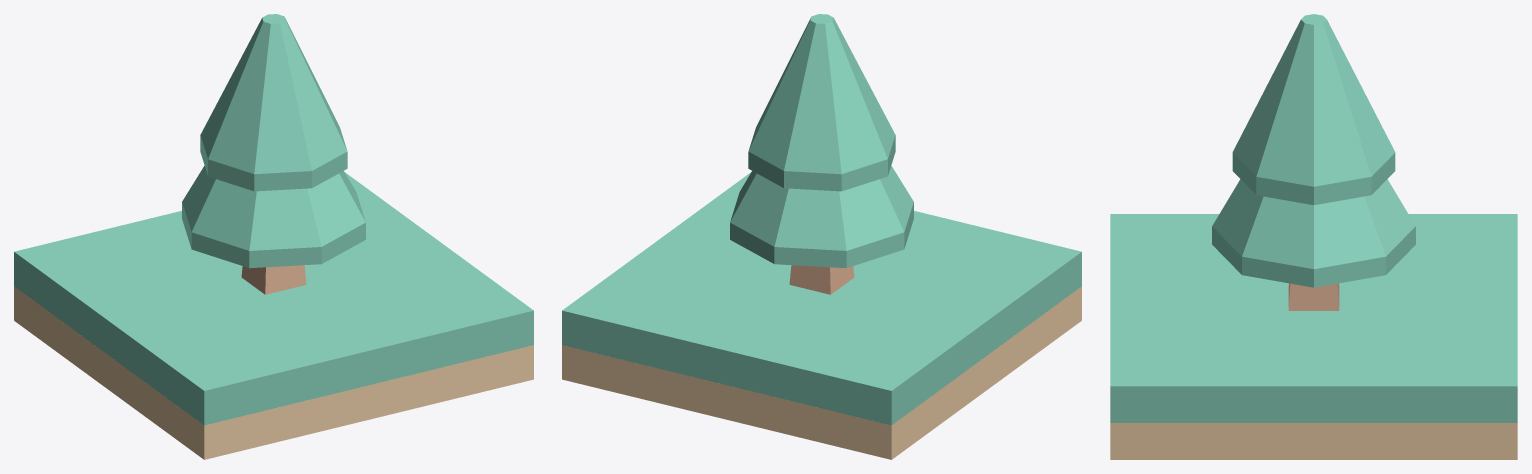
File: tile_tree.glb
3 views of the same model, side by side, from view 1: azimuth 30°, elevation 25°; view 2: azimuth 150°, elevation 25°; view 3: azimuth 270°, elevation 25° (orthographic). The views are drawn at different scales.
Parts seen in each view (by area): view 1: tile_tree, tree; view 2: tile_tree, tree; view 3: tile_tree, tree.
Part boxes in pixels (x1,y1,x2,y2): tile_tree: (14, 172, 533, 459); tree: (182, 14, 365, 294); tile_tree: (562, 172, 1081, 459); tree: (730, 14, 913, 294); tile_tree: (1110, 214, 1517, 459); tree: (1212, 14, 1415, 310).
Bounding box in the file's own units: 1 × 0.96 × 1.
